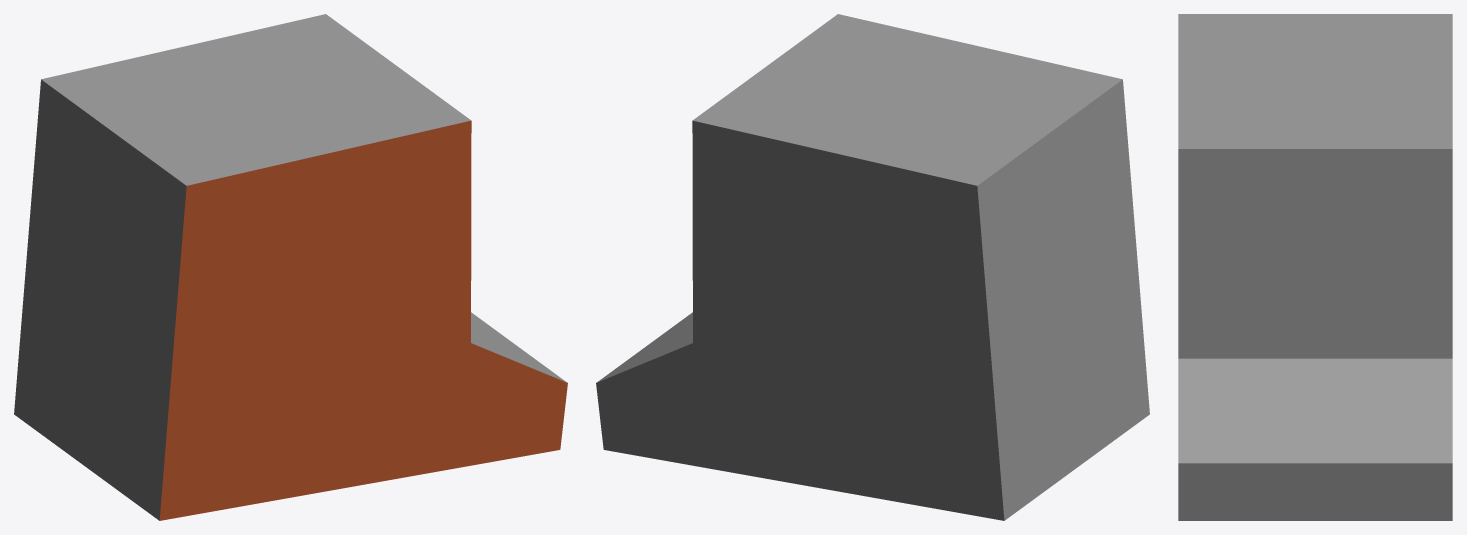
File: construction_0664_assumed_A_Casa_h6m.obj
The picture shows the model from 3 angles, left to right: view 1: azimuth 30°, elevation 25°; view 2: azimuth 150°, elevation 25°; view 3: azimuth 270°, elevation 25°; orthographic projection. The views are drawn at different scales.
Parts seen in each view (by area): view 1: construction_0664_assumed_A_Casa; view 2: construction_0664_assumed_A_Casa; view 3: construction_0664_assumed_A_Casa.
Boxes of the visible parts, bbox=[...] form: construction_0664_assumed_A_Casa: bbox=[14, 14, 567, 520]; construction_0664_assumed_A_Casa: bbox=[596, 14, 1149, 520]; construction_0664_assumed_A_Casa: bbox=[1178, 14, 1452, 520].
Bounding box in the file's own units: 9.72 × 8.07 × 6.
